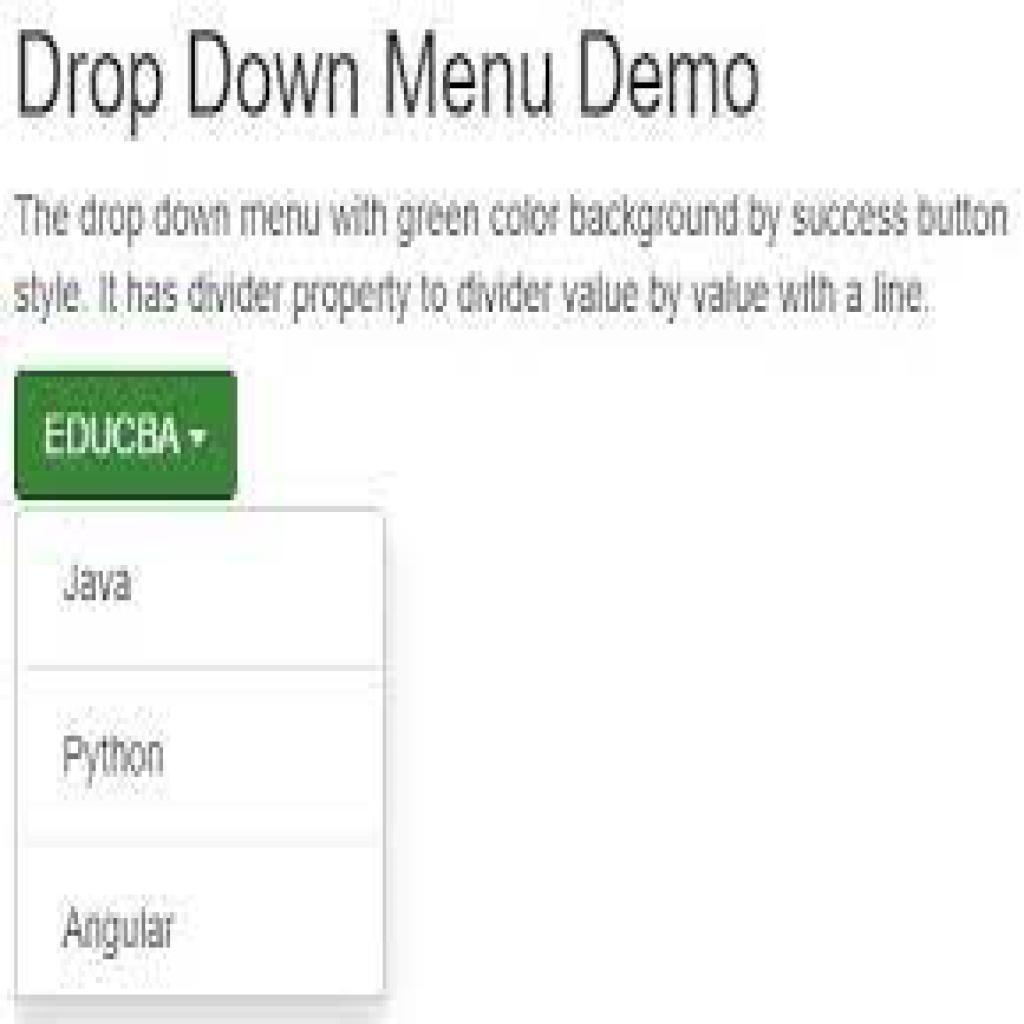dropdown: (18, 371, 239, 503)
